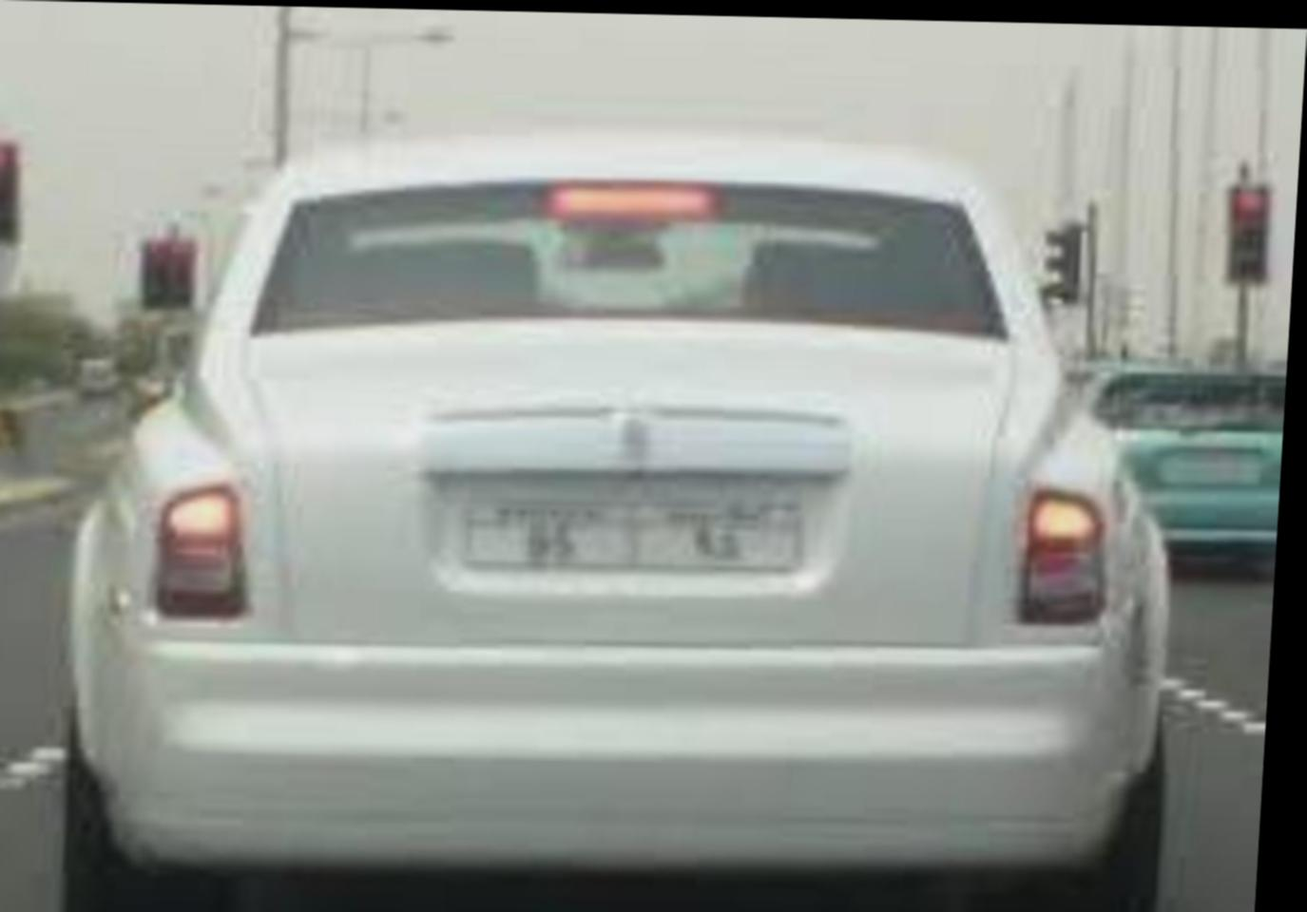License_Plate: (449, 480, 820, 584)
